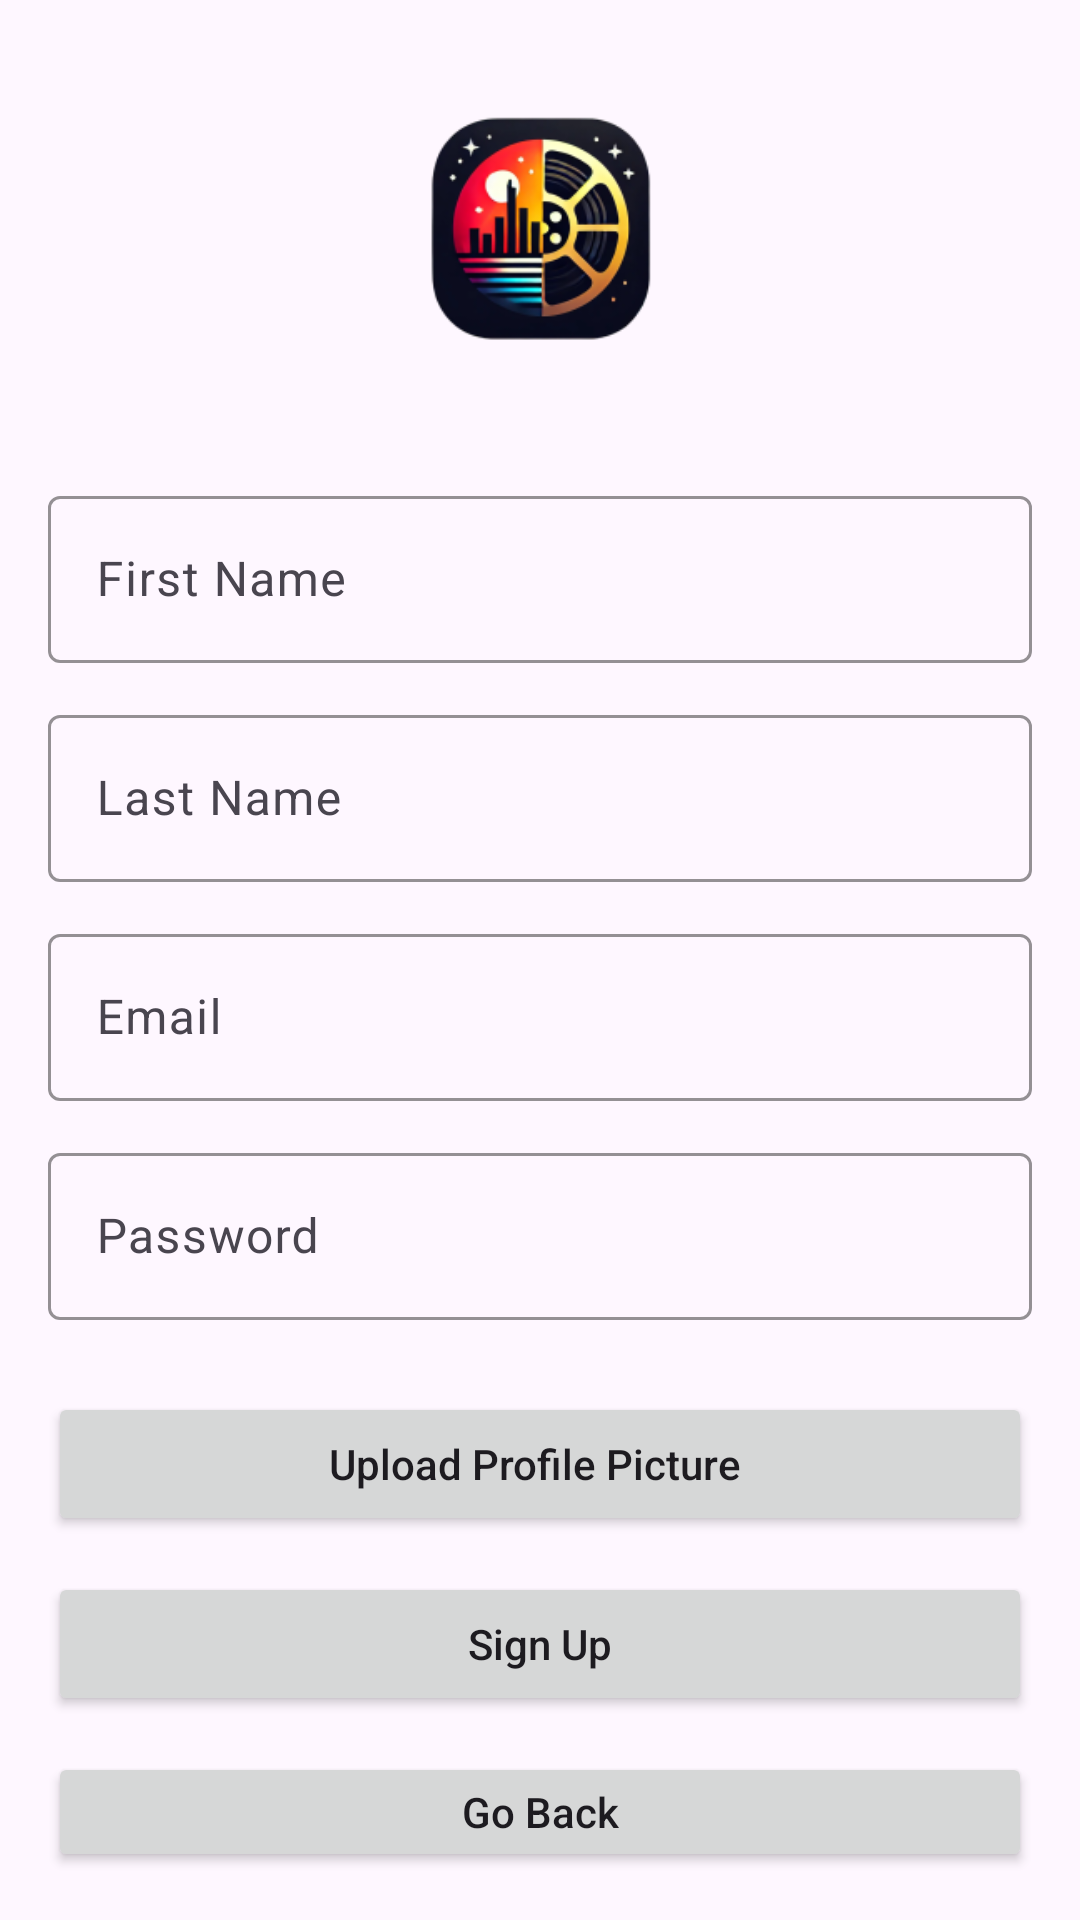

Icon click points for this 1080*1920 phone screenshot, format [x,y]:
app: [541,228]
